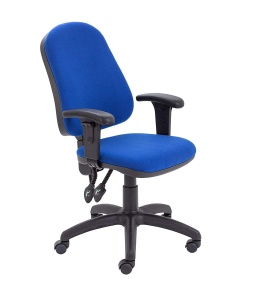chair: (39, 22, 201, 275)
